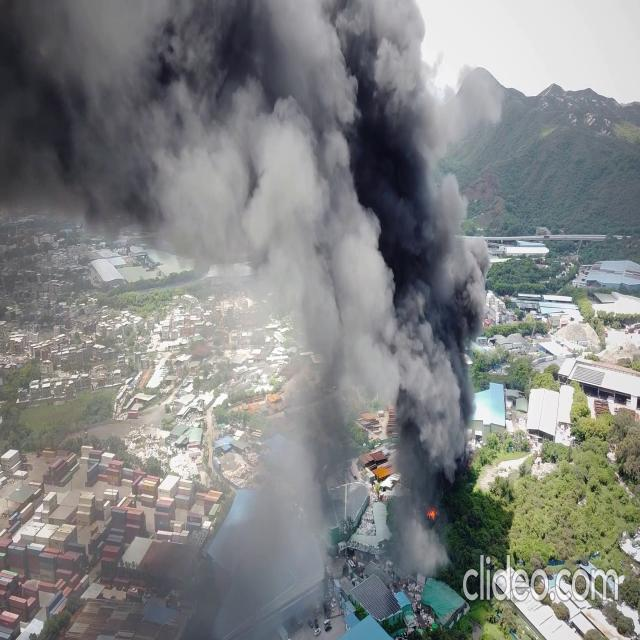Smoke: (3, 0, 504, 551)
